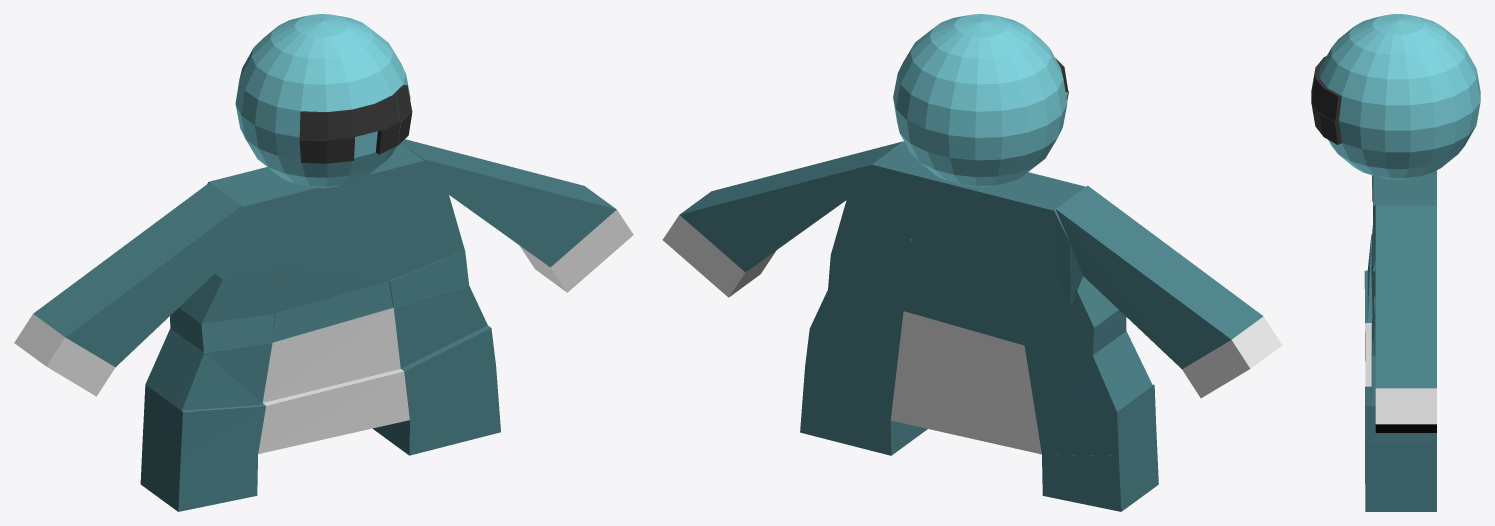
Rendered from MountaineerModel.fbx.
The picture shows the model from 3 angles, left to right: view 1: azimuth 30°, elevation 25°; view 2: azimuth 150°, elevation 25°; view 3: azimuth 270°, elevation 25°; orthographic projection. The views are drawn at different scales.
Parts seen in each view (by area): view 1: Model, pSphere1; view 2: Model, pSphere1; view 3: Model, pSphere1.
Part boxes in pixels (<box>): Model: <box>14,139,633,511</box>; pSphere1: <box>235,14,412,187</box>; Model: <box>662,141,1282,511</box>; pSphere1: <box>893,14,1068,186</box>; Model: <box>1364,170,1436,511</box>; pSphere1: <box>1311,14,1480,179</box>.
Size of the model in its own units: 10.65 by 7.63 by 2.79.
